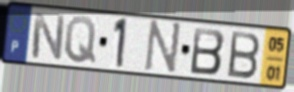1: (111, 16, 130, 71)
B: (189, 26, 227, 77), (226, 29, 262, 81)
N: (142, 19, 184, 77), (30, 11, 67, 63)
Q: (63, 14, 98, 66)
